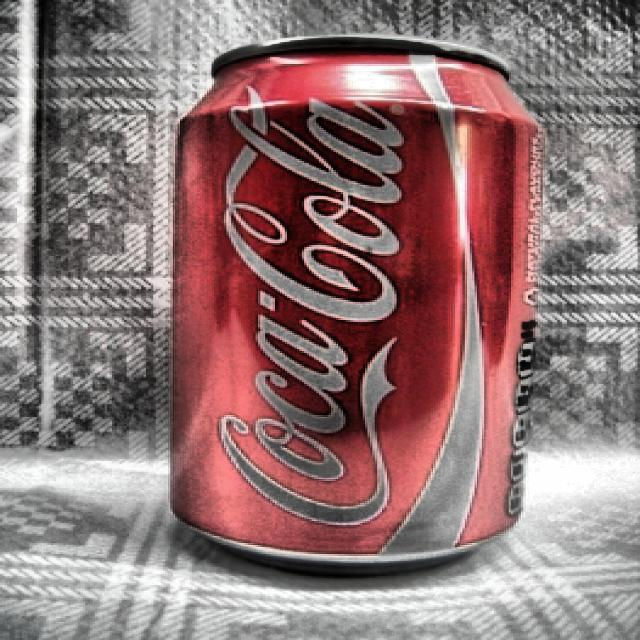Cans: (152, 32, 515, 573)
